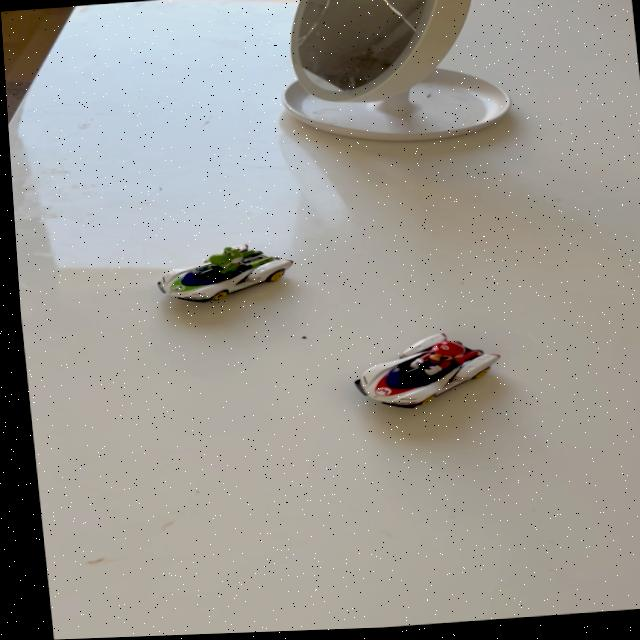mario: (326, 329, 514, 423)
yoshi: (139, 233, 300, 312)
